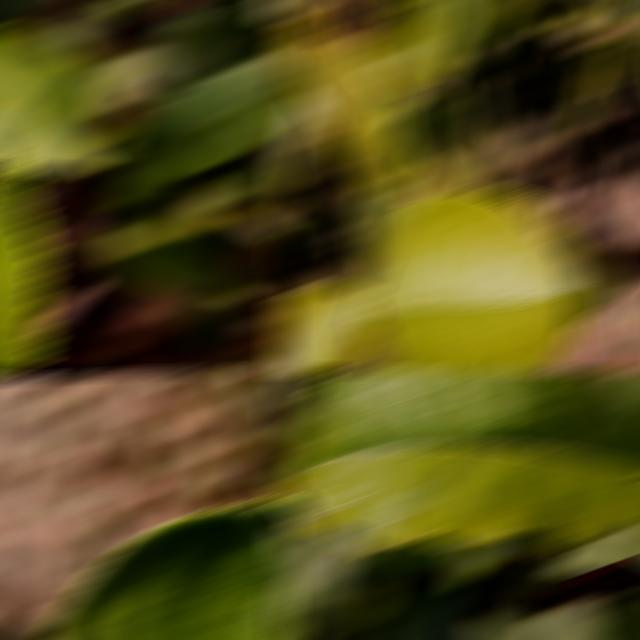Leaf: (273, 374, 640, 549), (359, 191, 622, 368), (35, 504, 289, 638), (273, 17, 418, 186), (116, 57, 289, 180), (356, 101, 446, 285), (93, 207, 263, 300), (0, 30, 111, 171), (130, 4, 289, 92), (278, 533, 358, 637), (273, 288, 371, 368), (273, 69, 326, 203), (356, 9, 440, 92), (412, 2, 480, 94), (378, 575, 468, 638), (558, 51, 610, 142), (455, 2, 534, 48), (516, 603, 609, 638), (507, 24, 547, 98), (273, 521, 313, 594), (594, 39, 627, 96), (273, 424, 310, 474), (420, 156, 472, 190), (466, 611, 531, 638), (599, 374, 640, 416), (580, 2, 617, 37), (541, 2, 587, 15), (294, 2, 328, 11)
